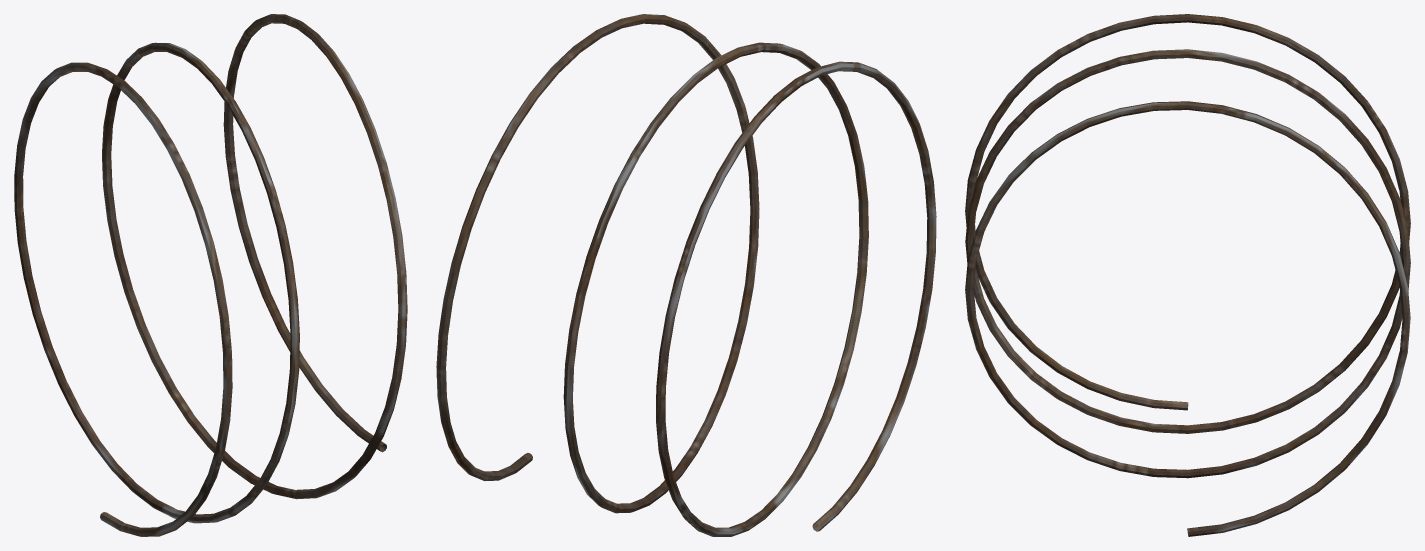
File: Barbed_Wire.FBX
3 renders of one model, left to right at view 1: azimuth 30°, elevation 25°; view 2: azimuth 150°, elevation 25°; view 3: azimuth 270°, elevation 25°, orthographic. The views are drawn at different scales.
Parts seen in each view (by area): view 1: Helix001; view 2: Helix001; view 3: Helix001.
Part boxes in pixels (x1,y1,x2,y2): Helix001: (14, 14, 407, 536); Helix001: (436, 14, 936, 536); Helix001: (965, 14, 1410, 536).
Bounding box in the file's own units: 35.18 × 51 × 51.
1 material, 1 textured.
